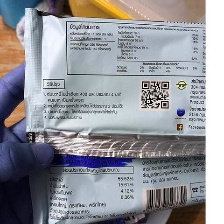snack: (11, 2, 205, 224)
